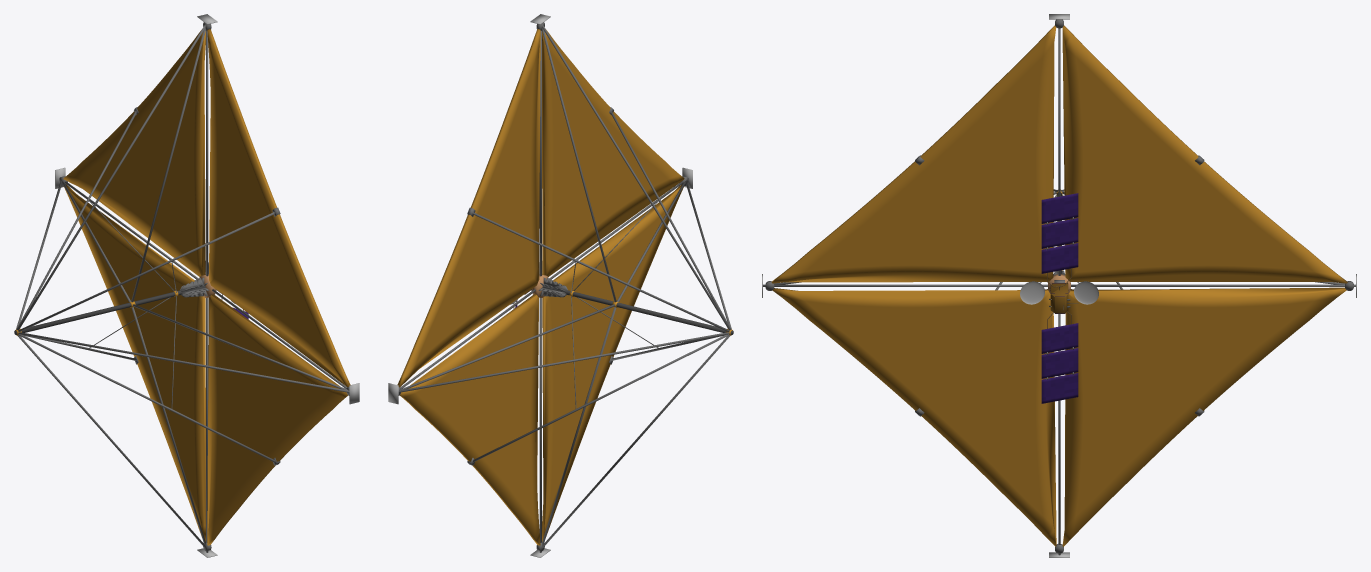
File: solarsail (1).obj
3 views of the same model, side by side, from view 1: azimuth 30°, elevation 25°; view 2: azimuth 150°, elevation 25°; view 3: azimuth 270°, elevation 25° (orthographic).
Parts seen in each view (by area): view 1: t5lak54r5gtr; view 2: t5lak54r5gtr; view 3: t5lak54r5gtr.
Boxes of the visible parts, left/top/right/bottom form: t5lak54r5gtr: left=14, top=14, right=359, bottom=557; t5lak54r5gtr: left=388, top=14, right=733, bottom=557; t5lak54r5gtr: left=762, top=14, right=1356, bottom=557.
Bounding box in the file's own units: 8.11 × 17.12 × 17.12.
